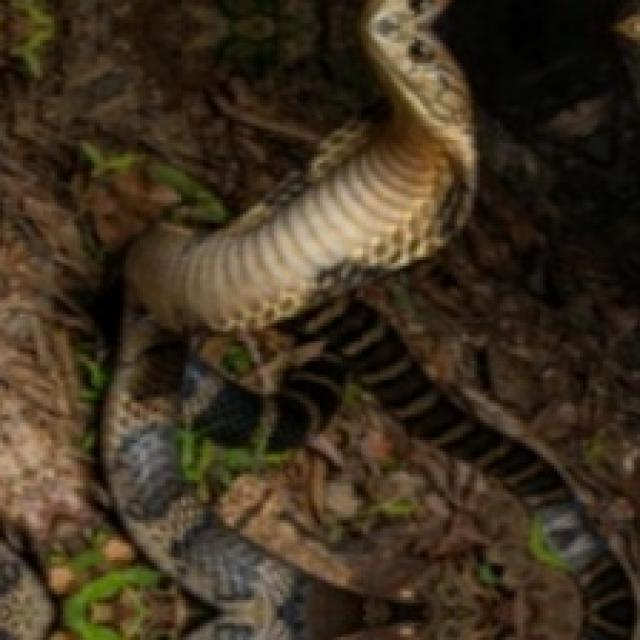king cobra: (103, 0, 637, 637)
